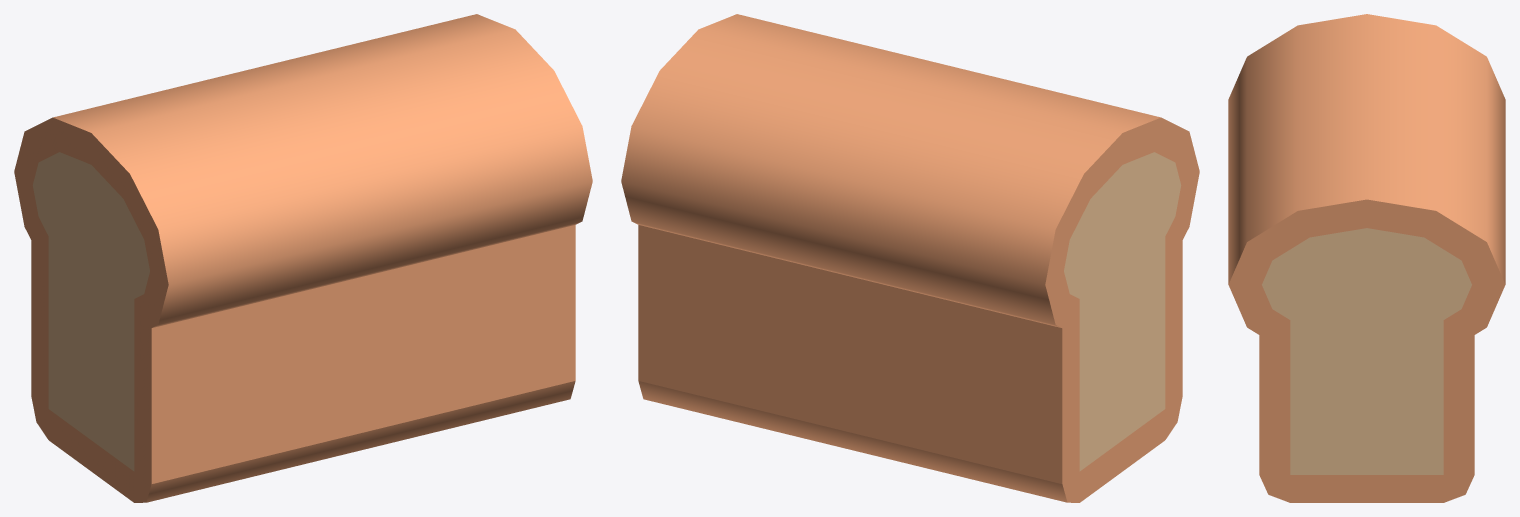
The model's file is loaf.GLB.
3 renders of one model, left to right at view 1: azimuth 30°, elevation 25°; view 2: azimuth 150°, elevation 25°; view 3: azimuth 270°, elevation 25°, orthographic. The views are drawn at different scales.
Visible parts, largest first — view 1: loaf; view 2: loaf; view 3: loaf.
Boxes of the visible parts, x1=… form: loaf: x1=14, y1=14, x2=592, y2=502; loaf: x1=621, y1=14, x2=1199, y2=502; loaf: x1=1228, y1=14, x2=1505, y2=502.
Bounding box in the file's own units: 0.5797 × 0.4423 × 0.3659.
